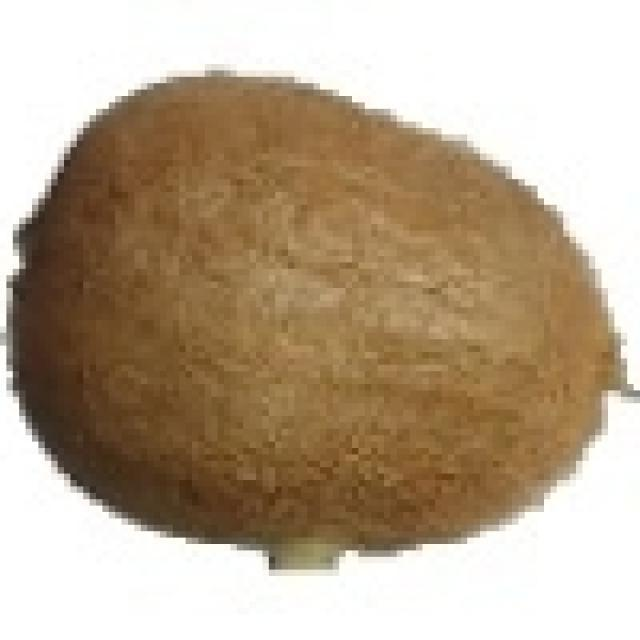kiwi: (26, 64, 627, 550)
